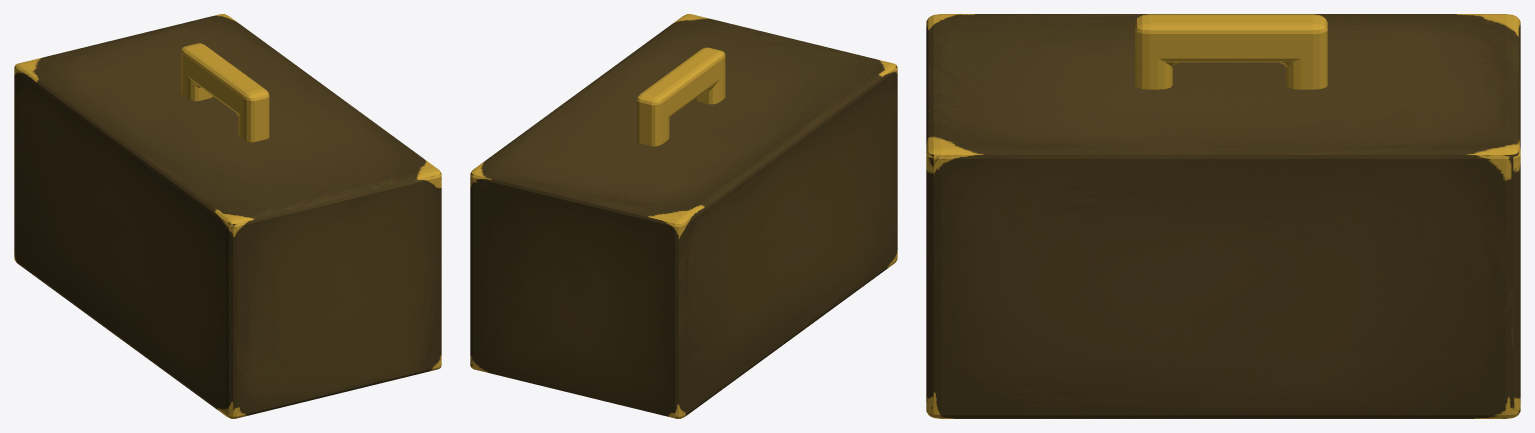
Rendered from suitcasemesh.fbx.
3 views of the same model, side by side, from view 1: azimuth 30°, elevation 25°; view 2: azimuth 150°, elevation 25°; view 3: azimuth 270°, elevation 25° (orthographic). The views are drawn at different scales.
Parts seen in each view (by area): view 1: Cube; view 2: Cube; view 3: Cube.
Boxes of the visible parts, bbox=[...] form: Cube: bbox=[14, 14, 441, 418]; Cube: bbox=[470, 14, 897, 418]; Cube: bbox=[926, 14, 1520, 418].
Bounding box in the file's own units: 178 × 195 × 317.
